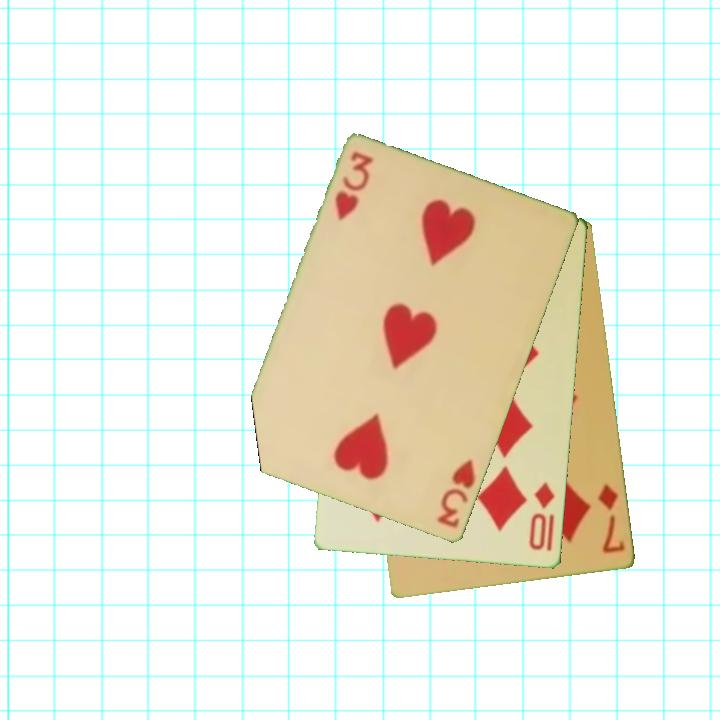10d: (525, 478, 559, 554)
3h: (331, 148, 376, 225), (434, 456, 479, 531)
7d: (595, 481, 628, 556)
